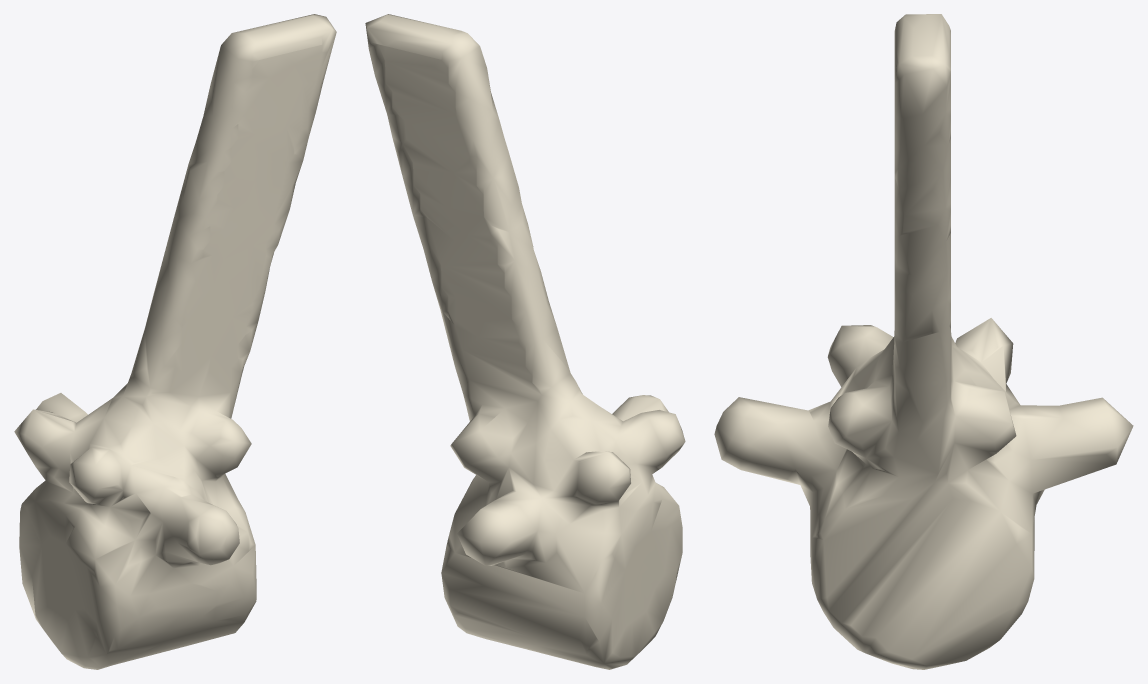
Rendered from thoracic_9.glb.
3 renders of one model, left to right at view 1: azimuth 30°, elevation 25°; view 2: azimuth 150°, elevation 25°; view 3: azimuth 270°, elevation 25°, orthographic. The views are drawn at different scales.
Parts seen in each view (by area): view 1: geometry_0; view 2: geometry_0; view 3: geometry_0.
Part boxes in pixels (left/top/right/bottom): geometry_0: left=14, top=14, right=336, bottom=669; geometry_0: left=365, top=14, right=685, bottom=669; geometry_0: left=714, top=14, right=1133, bottom=669.
Bounding box in the file's own units: 0.1625 × 0.3194 × 0.1789.
